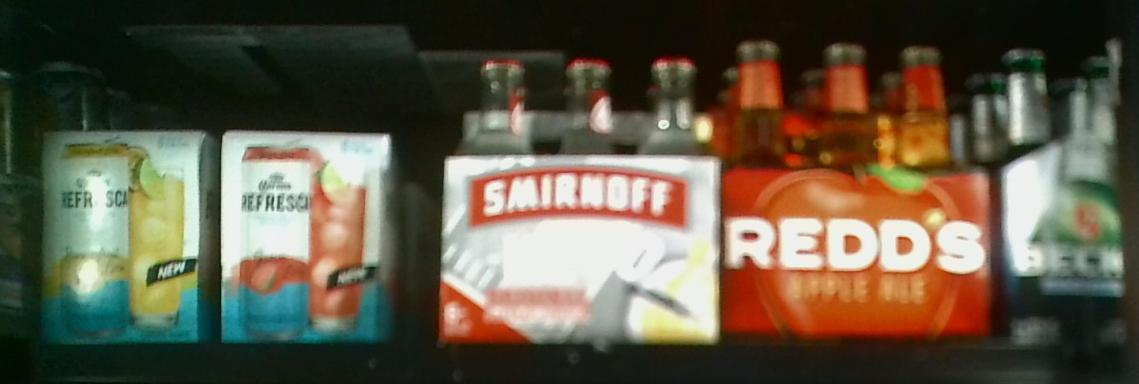bottle: (721, 38, 1000, 342), (443, 47, 721, 344), (220, 129, 407, 343), (40, 129, 221, 345), (1005, 47, 1128, 323)
